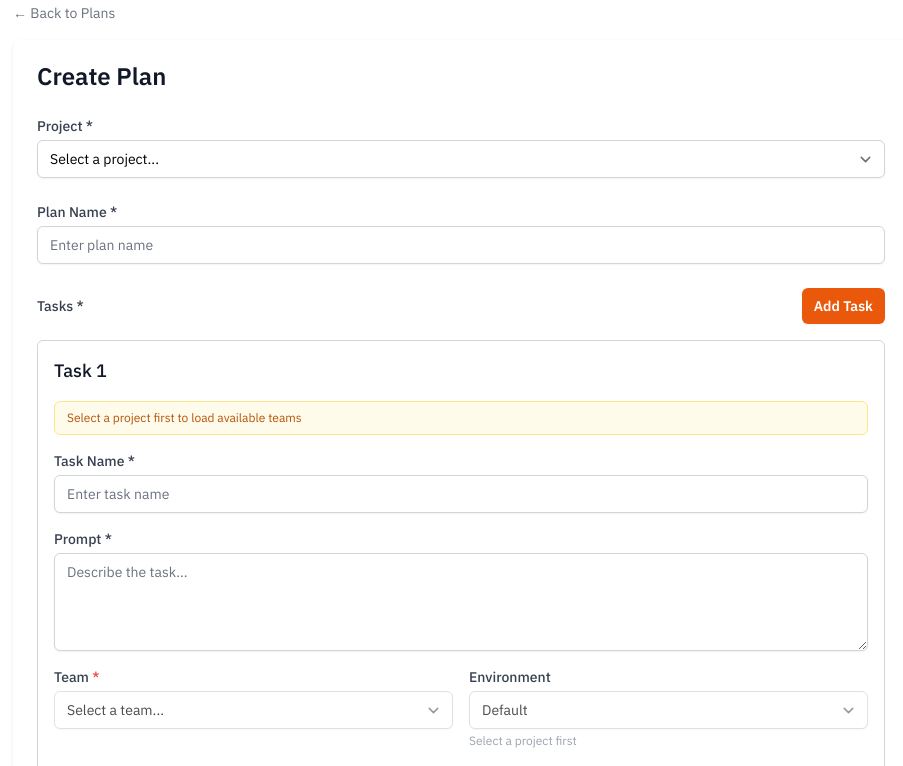
Test case: CreatePlanForm › updates cwd to project_path when environment is selected
First select a project to enable environment selection
Select "Project 1" in the dropdown labelled "Project *" at point(461, 159), box [37,140,885,178]
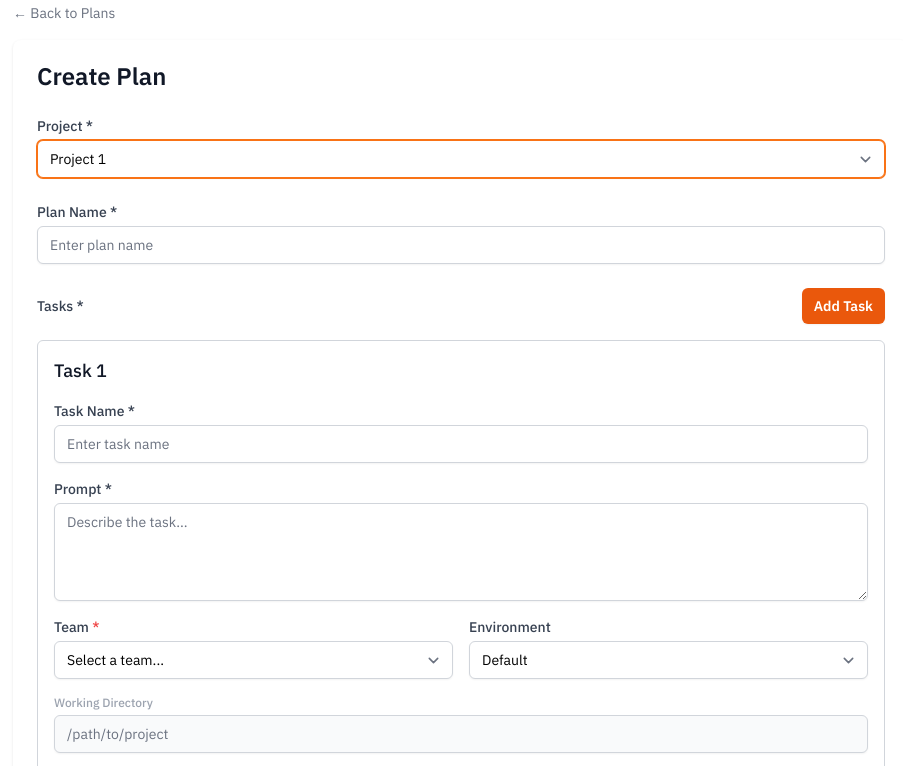
Select an environment
Select "Dev Environment (local-wsl)" in the dropdown labelled "Environment" at point(668, 660), box [469,641,868,679]
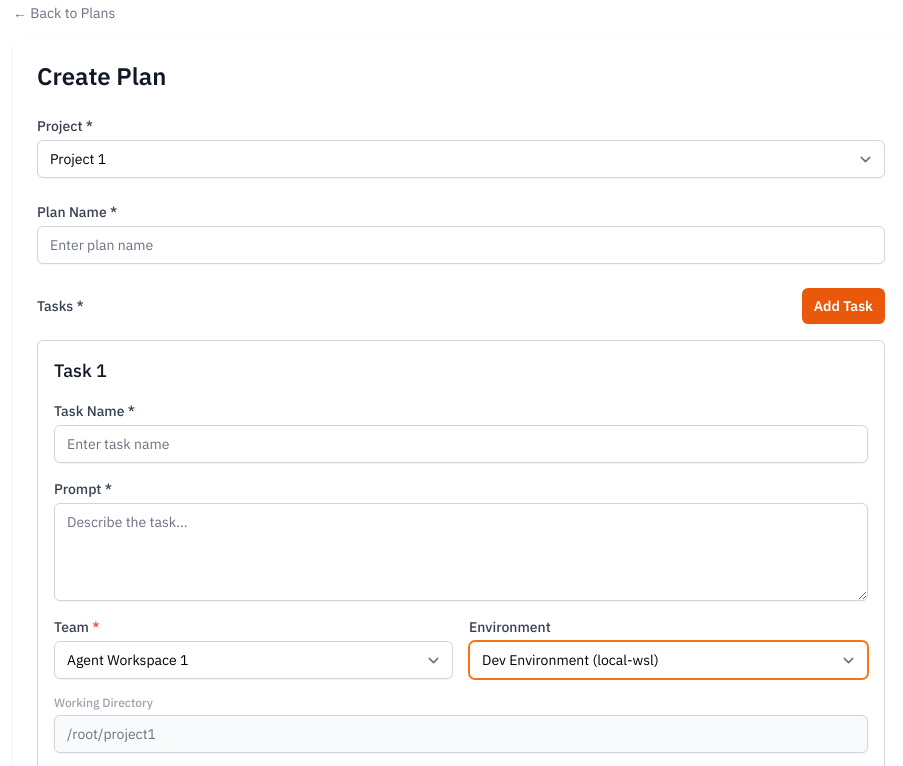
Expected: the field with placeholder "/path/to/project" holds "/root/project1", [54,715,868,753]
